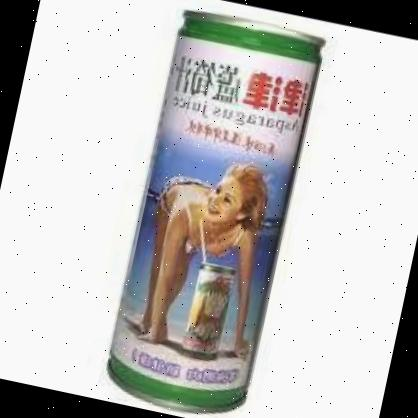can: (98, 1, 332, 418)
